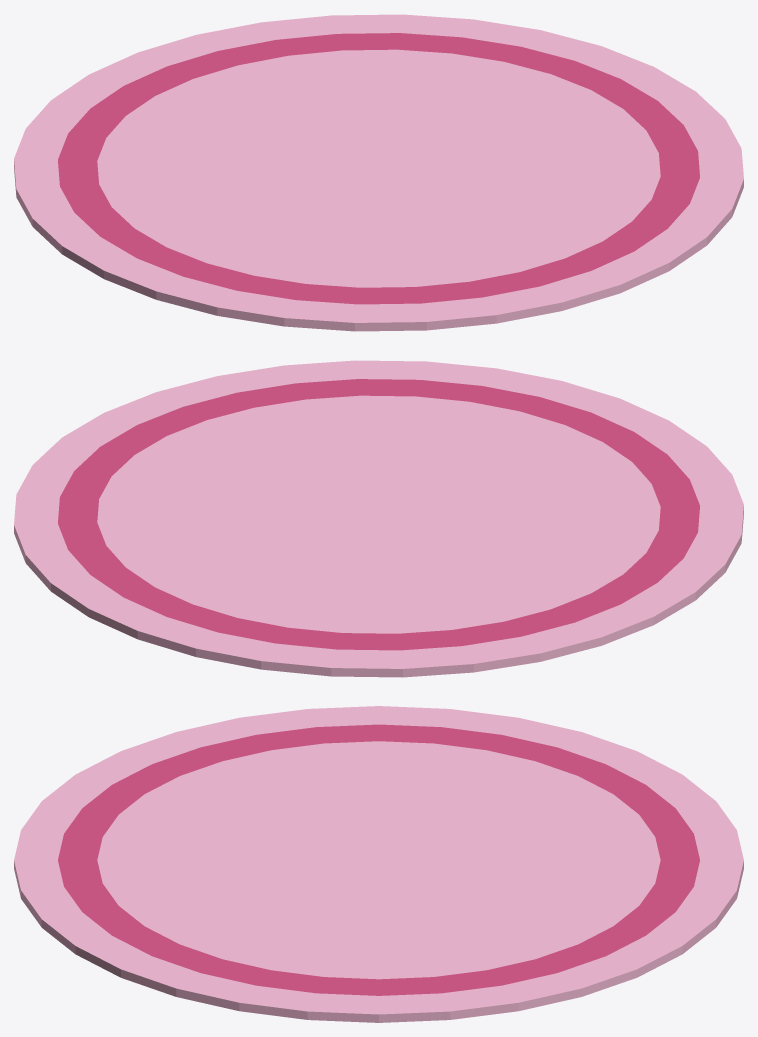
Rendered from Prop_Carpet_06.fbx.
3 renders of one model, top to bottom at view 1: azimuth 30°, elevation 25°; view 2: azimuth 150°, elevation 25°; view 3: azimuth 270°, elevation 25°, orthographic.
Visible parts, largest first — view 1: Prop_Carpet_06; view 2: Prop_Carpet_06; view 3: Prop_Carpet_06.
Part boxes in pixels (bbox=[...]): Prop_Carpet_06: bbox=[14, 14, 743, 331]; Prop_Carpet_06: bbox=[14, 360, 743, 677]; Prop_Carpet_06: bbox=[14, 706, 743, 1022].
Bounding box in the file's own units: 150 × 1.92 × 150.
